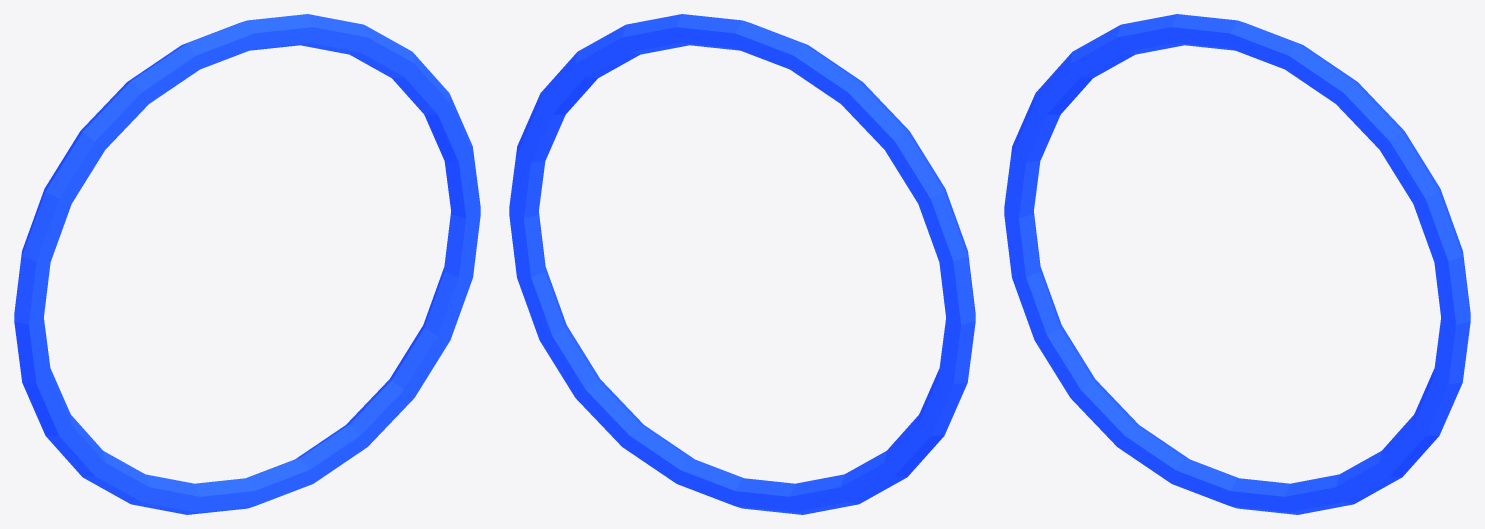
File: portal.glb
3 renders of one model, left to right at view 1: azimuth 30°, elevation 25°; view 2: azimuth 150°, elevation 25°; view 3: azimuth 330°, elevation 25°, orthographic.
Visible parts, largest first — view 1: ring; view 2: ring; view 3: ring.
Part boxes in pixels (box(x1,y1,x2,y2)): ring: box(14, 14, 480, 514); ring: box(509, 14, 975, 514); ring: box(1004, 14, 1470, 514).
Bounding box in the file's own units: 1.92 × 1.92 × 0.1039.
